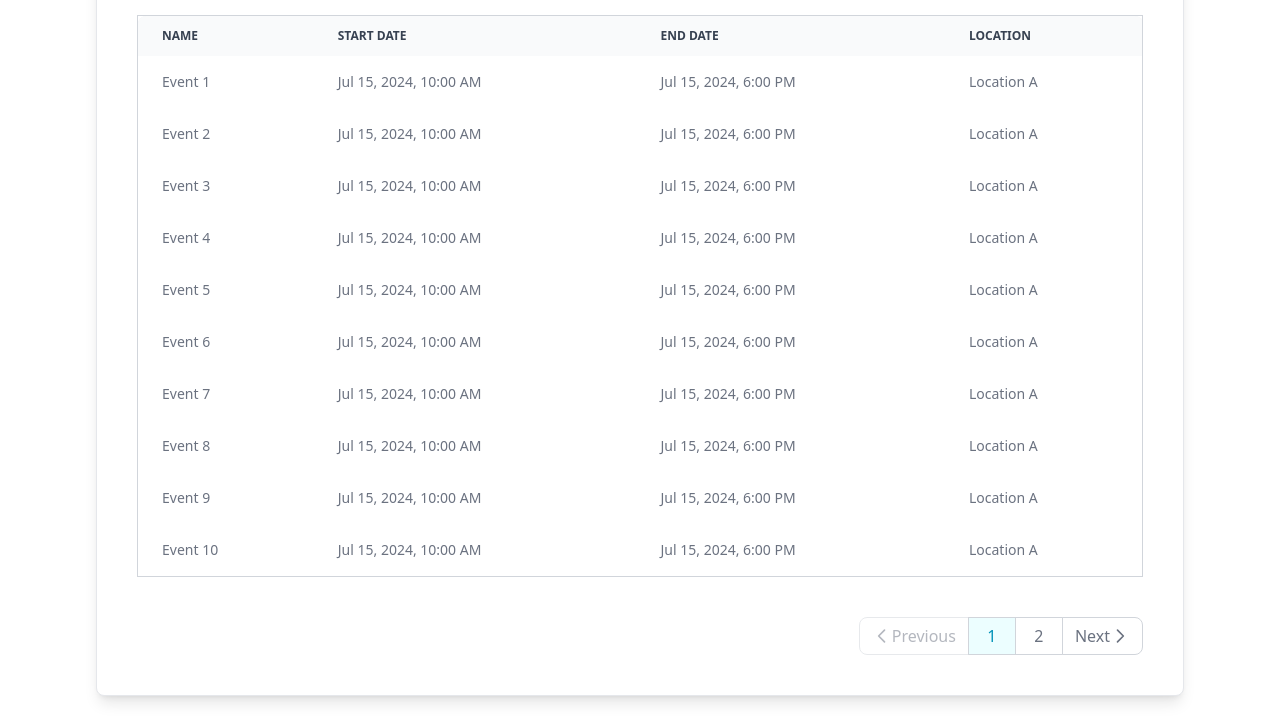
Test: Events Page › disables pagination buttons appropriately
(page scrolled)
Check: the text "Event 1" is shown, box [138, 56, 314, 108]
Check: the button "Previous" is disabled, box [859, 617, 969, 655]
Click the button "Next". click: x=1102, y=636
box: [1062, 617, 1143, 655]
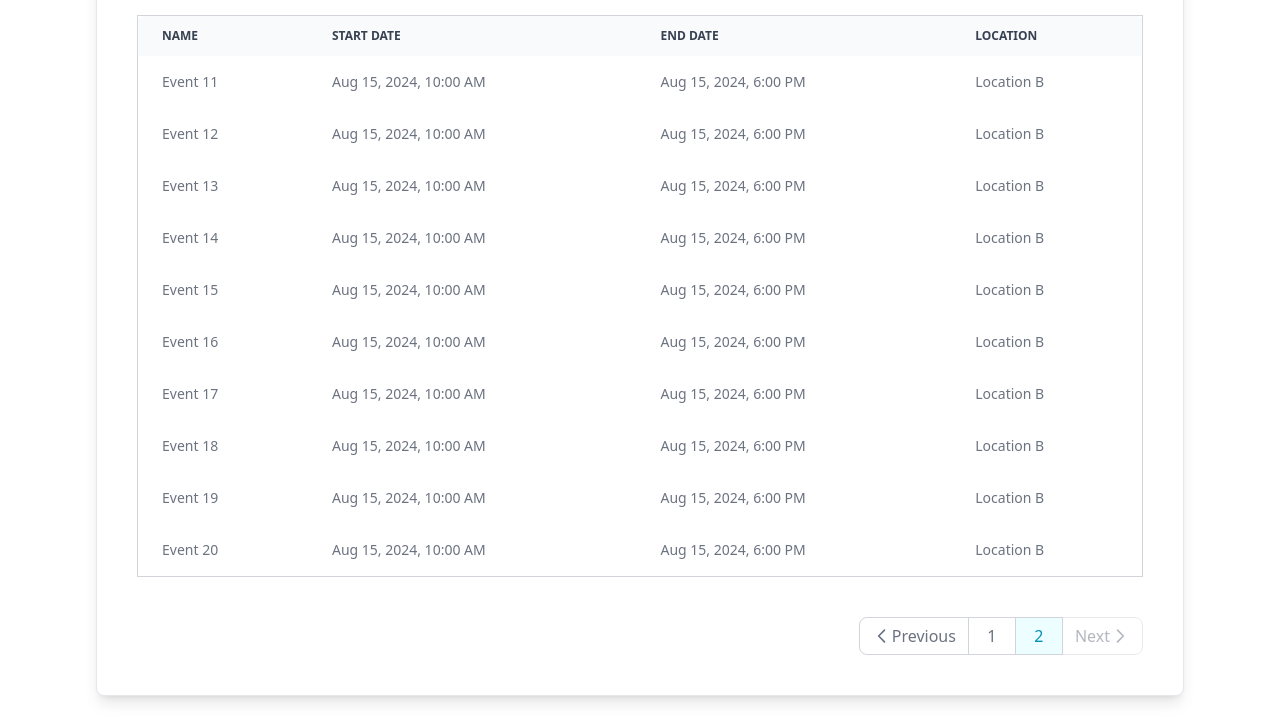
Check: the button "Previous" is enabled, box [859, 617, 969, 655]
Check: the text "Event 11" is shown, box [138, 56, 308, 108]
